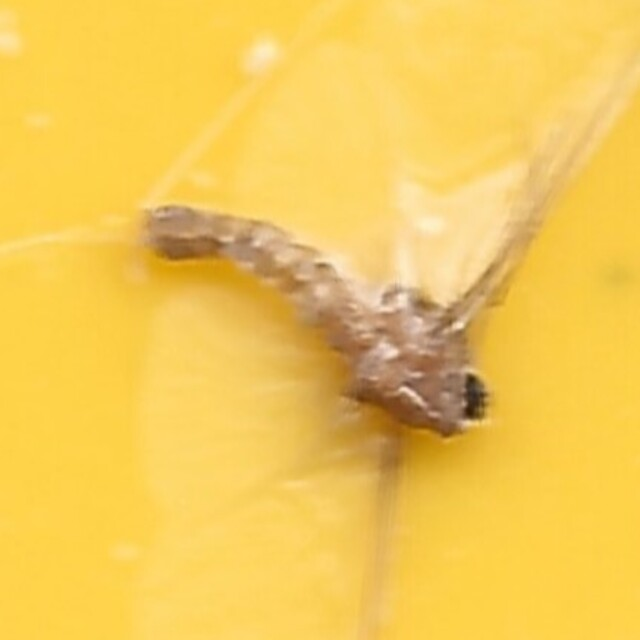Ephemeroptera: (147, 189, 493, 451)
